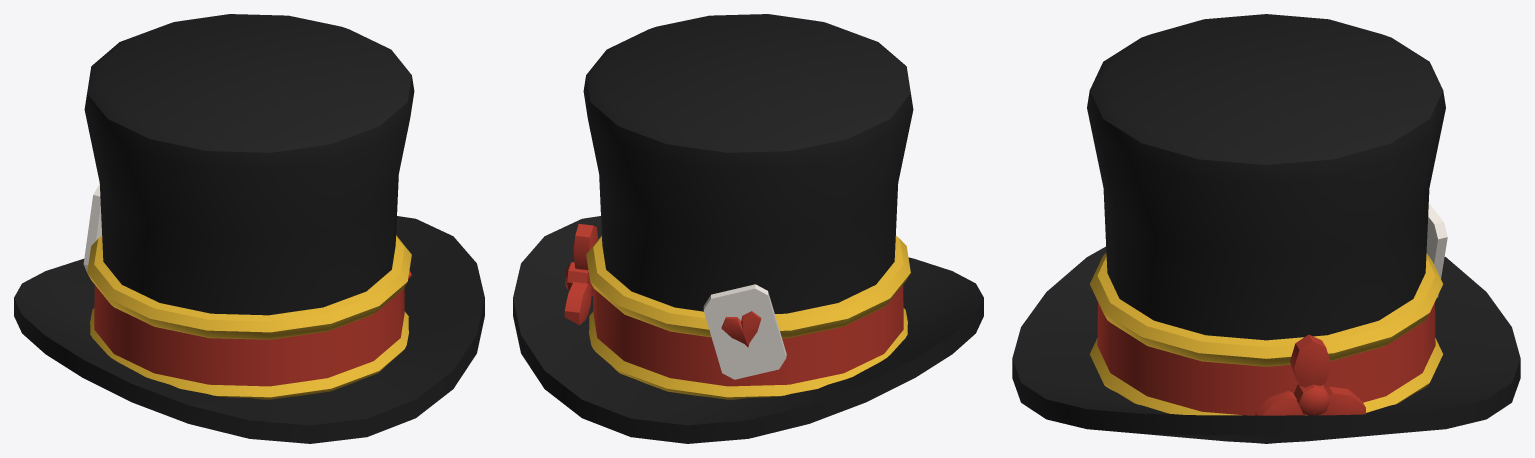
Rendered from chapeau_haut_de_forme.fbx.
3 views of the same model, side by side, from view 1: azimuth 30°, elevation 25°; view 2: azimuth 150°, elevation 25°; view 3: azimuth 270°, elevation 25° (orthographic). The views are drawn at different scales.
Visible parts, largest first — view 1: Anim_HautDeForme; view 2: Anim_HautDeForme; view 3: Anim_HautDeForme.
Part boxes in pixels (bbox=[...]): Anim_HautDeForme: bbox=[14, 14, 484, 443]; Anim_HautDeForme: bbox=[513, 14, 983, 443]; Anim_HautDeForme: bbox=[1012, 14, 1520, 443].
Size of the model in its own units: 0.92 by 0.605 by 0.92.
